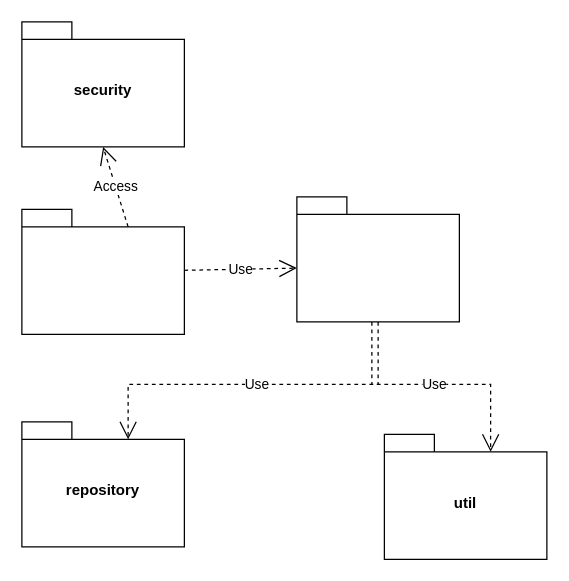
Some shapes in this 569 by 581 pixel diagram are drawn without their labels. Each missing label, with the centre of its shape:
"Controller" belongs at (102,271).
"Service" belongs at (377,259).
